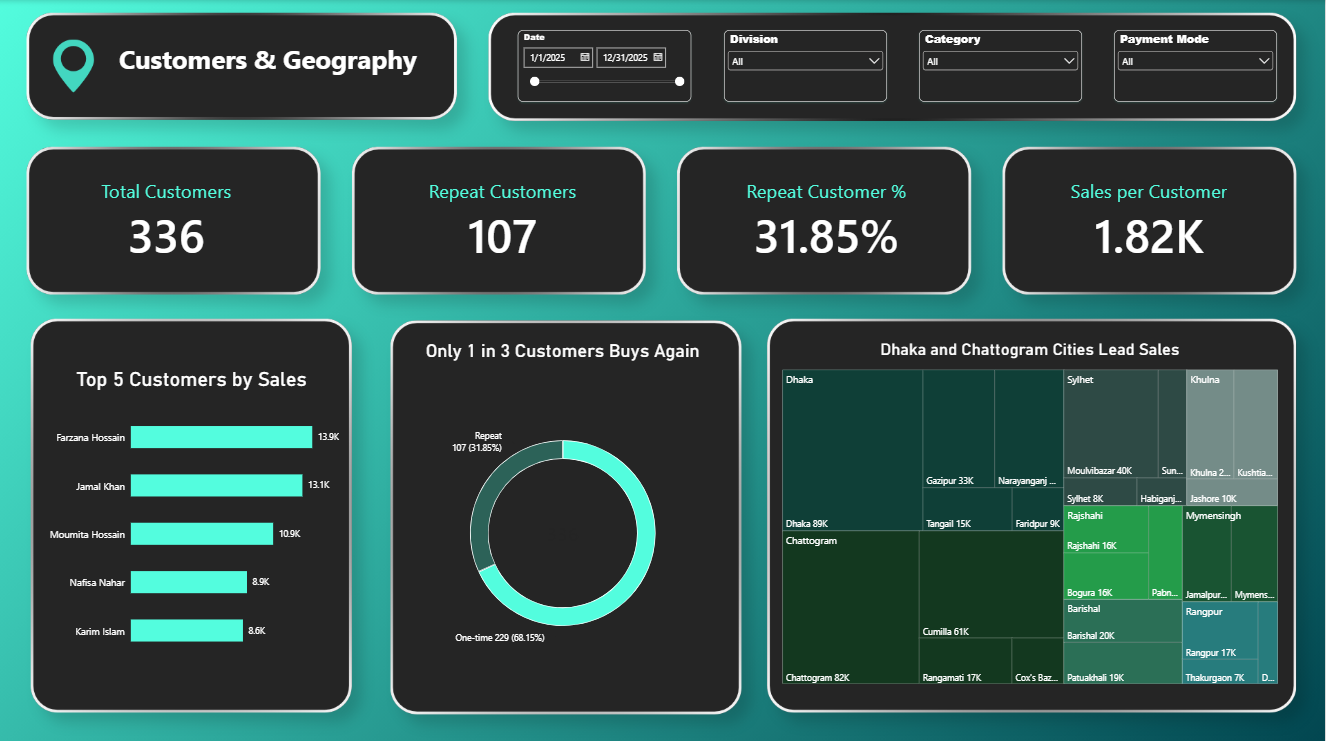

The page's visual inventory and layout, read from the dashboard file:
{"tool":"powerbi","page":{"name":"Customers and Geography","canvas":[1920,1080],"ordinal":2},"visuals":[{"type":"slicer","fields":{"Values":["Calendar.Date"]},"box":[751,43.3,251,103.9],"z":0},{"type":"slicer","fields":{"Values":["Product.Category"]},"box":[1331.7,43.3,235.9,103.9],"z":1000},{"type":"slicer","fields":{"Values":["Location.State "]},"box":[1048.9,43.3,235.9,103.9],"z":2000},{"type":"slicer","fields":{"Values":["Sales.PaymentMode"]},"box":[1614.5,43.3,235.9,103.9],"z":3000},{"type":"textbox","box":[110.4,59.7,557.4,249.7],"z":4000},{"type":"cardVisual","fields":{"Data":["Calculation.Total Customers"]},"box":[83.2,238.9,318.5,166.5],"z":5000},{"type":"cardVisual","fields":{"Data":["Calculation.Repeat Customers"]},"box":[542.9,238.9,372.8,166.5],"z":6000},{"type":"cardVisual","fields":{"Data":["Calculation.Repeat Customer %"]},"box":[1013.4,238.9,369.2,166.5],"z":7000},{"type":"cardVisual","fields":{"Data":["Calculation.Sales per Customer"]},"box":[1480.3,238.9,369.2,166.5],"z":8000},{"type":"donutChart","title":"Only 1 in 3 Customers Buys Again","fields":{"Category":["Customer.Customer Type"],"Y":["Calculation.Total Customers"]},"box":[582.7,477.8,466.9,542.9],"z":9000},{"type":"clusteredBarChart","title":"Top 5 Customers by Sales","fields":{"Category":["Customer.CustomerName"],"Y":["Calculation.Total Sales"]},"box":[48.9,517.6,459.7,457.8],"z":10001},{"type":"treemap","title":"Dhaka and Chattogram Cities Lead Sales","fields":{"Details":["Location.City"],"Group":["Location.Division"],"Values":["Calculation.Total Sales"]},"box":[1118.9,478.3,748.8,528.1],"z":10002}]}

Visuals, with their boxes in screenshot pixels (x1, y1, x2, y2), scaled from the page's 1920x1080 canvas onto the 1326x741 screenshot:
slicer - Calendar.Date: crop(519, 30, 692, 101)
slicer - Product.Category: crop(920, 30, 1083, 101)
slicer - Location.State : crop(724, 30, 887, 101)
slicer - Sales.PaymentMode: crop(1115, 30, 1278, 101)
textbox: crop(76, 41, 461, 212)
cardVisual - Calculation.Total Customers: crop(57, 164, 277, 278)
cardVisual - Calculation.Repeat Customers: crop(375, 164, 632, 278)
cardVisual - Calculation.Repeat Customer %: crop(700, 164, 955, 278)
cardVisual - Calculation.Sales per Customer: crop(1022, 164, 1277, 278)
"Only 1 in 3 Customers Buys Again" donutChart: crop(402, 328, 725, 700)
"Top 5 Customers by Sales" clusteredBarChart: crop(34, 355, 351, 669)
"Dhaka and Chattogram Cities Lead Sales" treemap: crop(773, 328, 1290, 691)
